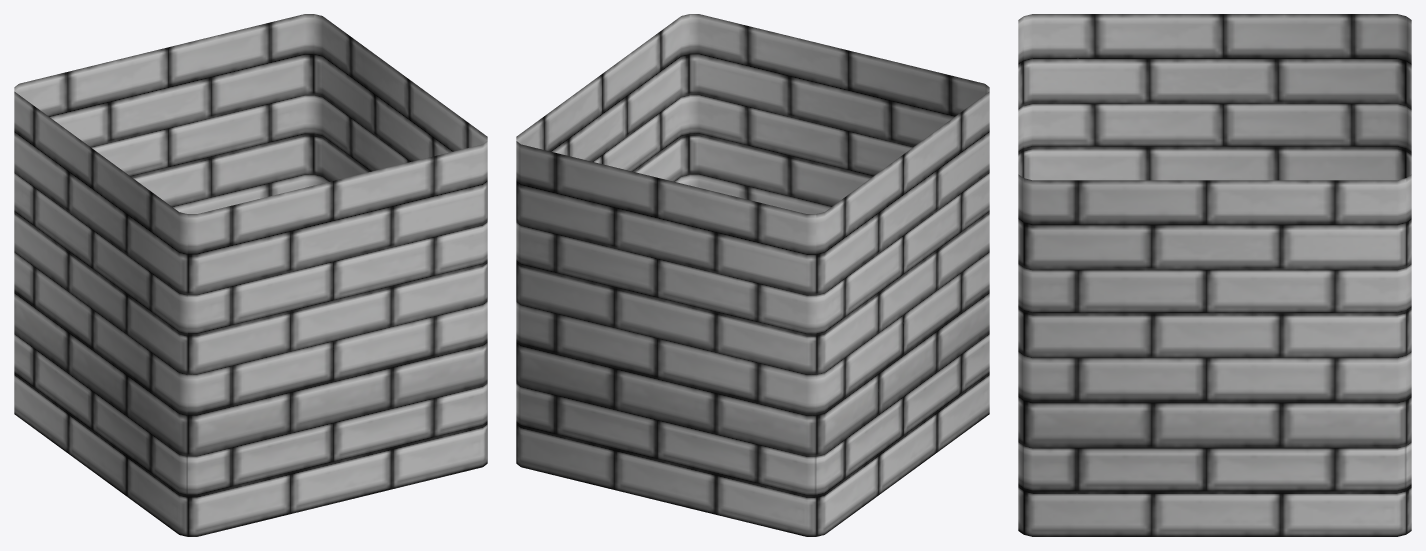
Rendered from Block_Brick_Subway.fbx.
The picture shows the model from 3 angles, left to right: view 1: azimuth 30°, elevation 25°; view 2: azimuth 150°, elevation 25°; view 3: azimuth 270°, elevation 25°; orthographic projection. The views are drawn at different scales.
Parts seen in each view (by area): view 1: Block_Brick_Subway; view 2: Block_Brick_Subway; view 3: Block_Brick_Subway.
Boxes of the visible parts, left/top/right/bottom form: Block_Brick_Subway: left=14, top=14, right=487, bottom=536; Block_Brick_Subway: left=516, top=14, right=989, bottom=536; Block_Brick_Subway: left=1018, top=14, right=1411, bottom=536.
Size of the model in its own units: 100 by 100 by 100.
